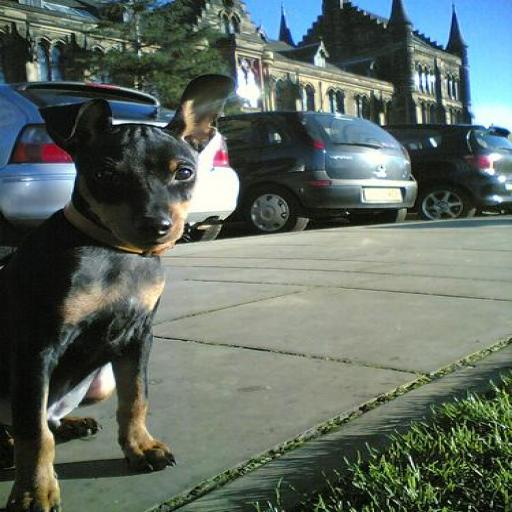dog_face: (23, 84, 246, 257)
